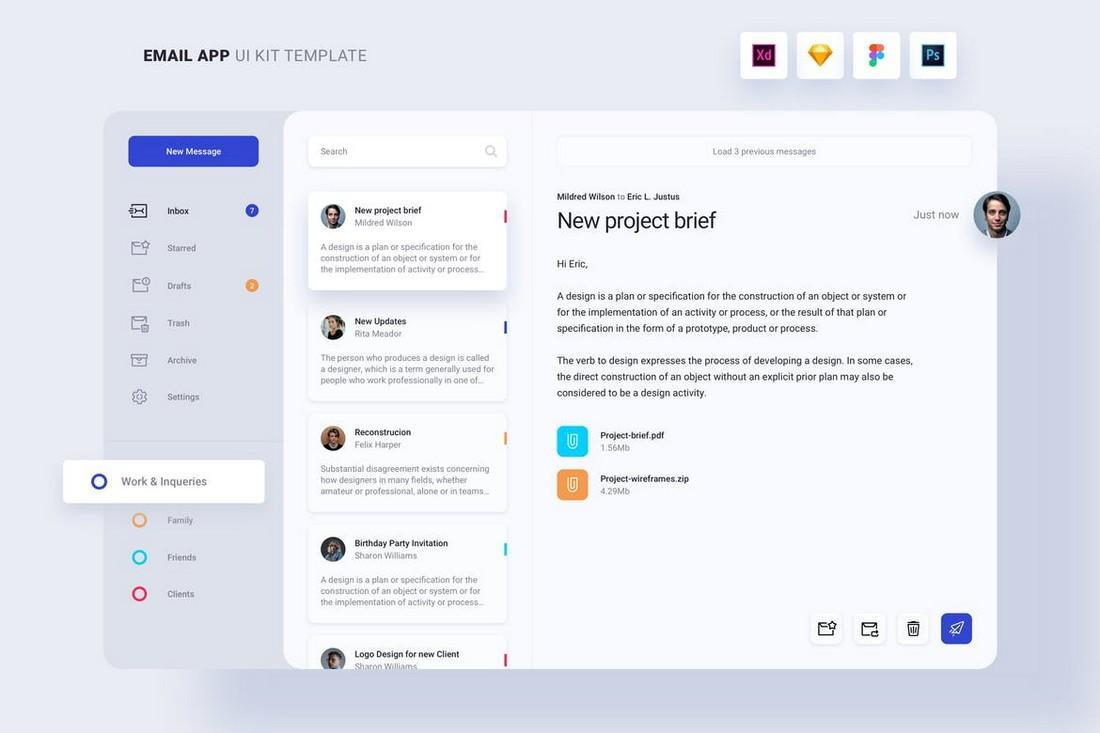button: (64, 459, 267, 505), (123, 269, 266, 301), (123, 347, 266, 379), (128, 135, 260, 168), (123, 311, 266, 341), (125, 545, 267, 575), (124, 233, 266, 262), (125, 198, 266, 227), (126, 584, 267, 613), (123, 386, 266, 414), (125, 509, 267, 537)
icon: (808, 43, 835, 68), (752, 46, 778, 68), (923, 44, 946, 68), (867, 42, 888, 68), (817, 619, 839, 640), (860, 621, 883, 640), (128, 202, 151, 221), (130, 240, 151, 259), (131, 315, 151, 334), (906, 619, 924, 640), (948, 620, 967, 639), (131, 277, 151, 295), (131, 389, 150, 407), (131, 353, 151, 369), (565, 476, 581, 495), (486, 143, 501, 161), (567, 432, 579, 451)
input: (309, 135, 510, 170)
